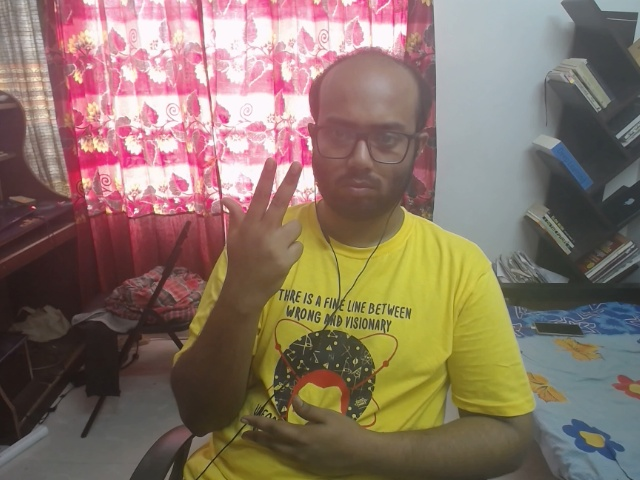eight: (201, 139, 327, 302)
